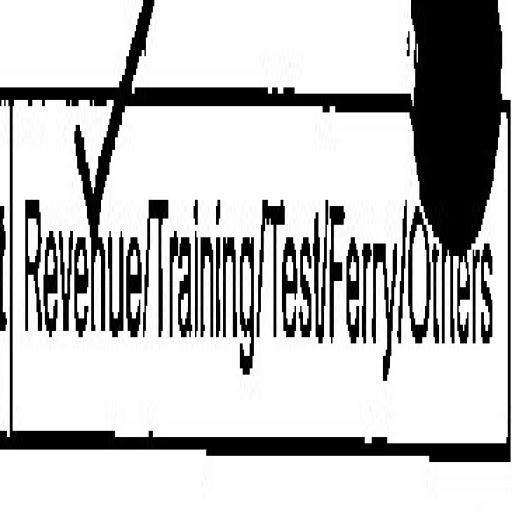check: (10, 0, 150, 477)
